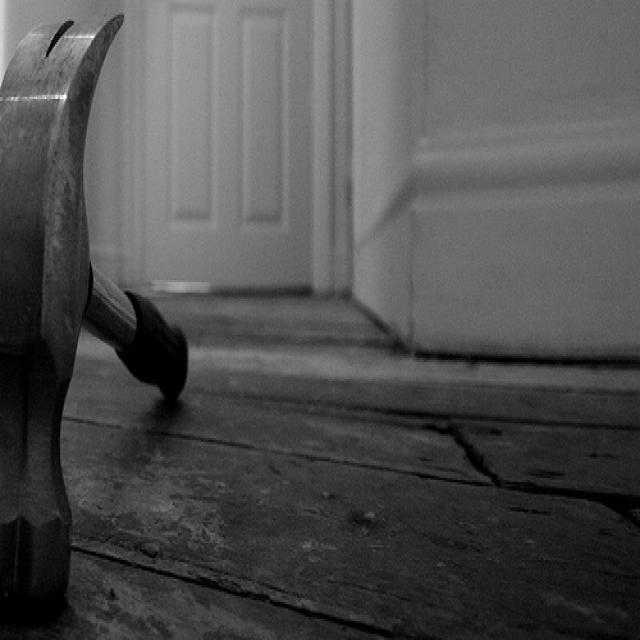hammer: (0, 0, 205, 629)
